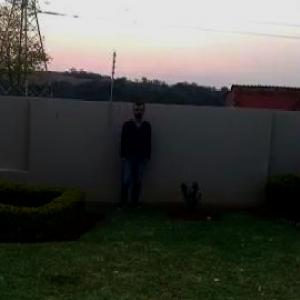follow: (118, 96, 153, 214)
